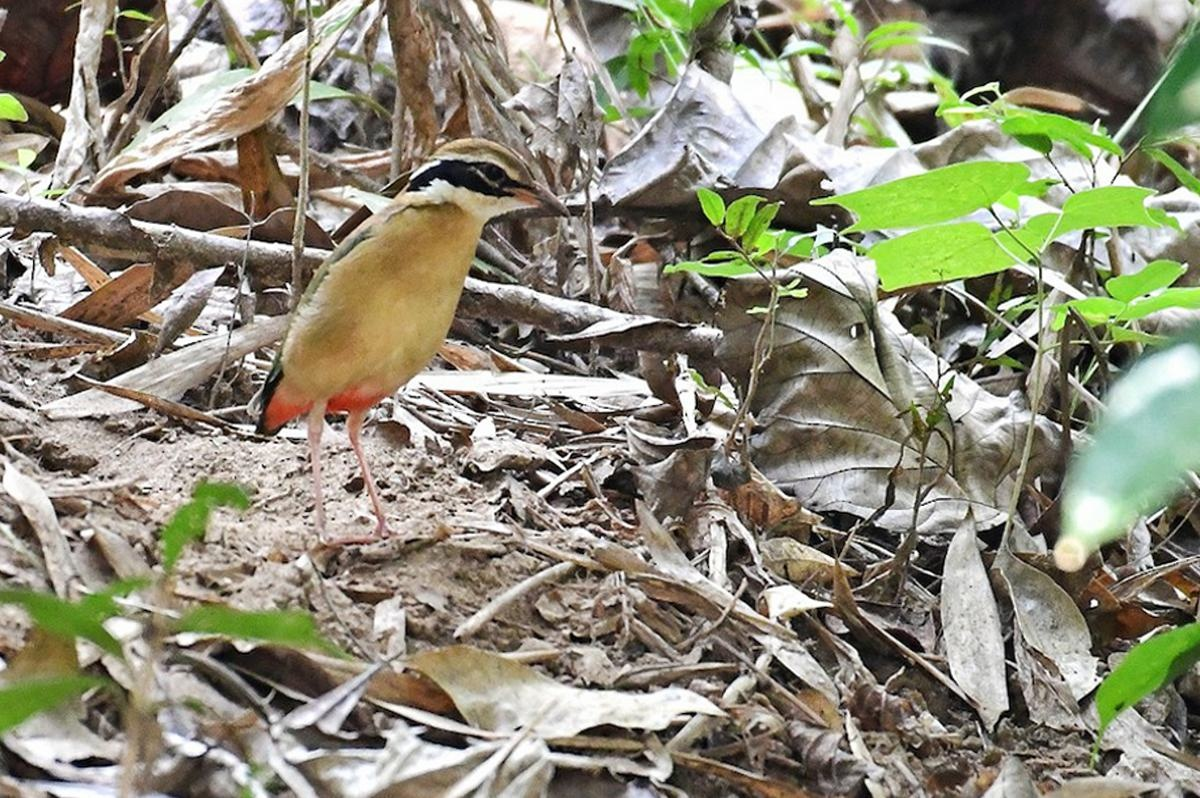pitta: (203, 122, 575, 505)
